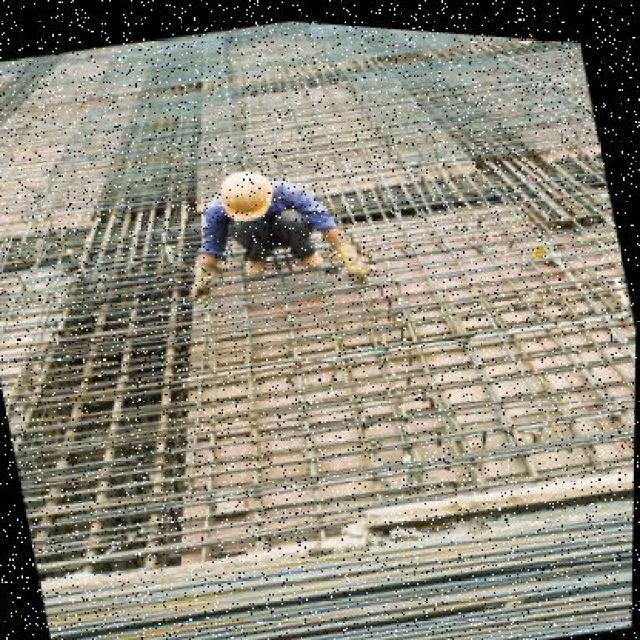helmet: (211, 161, 285, 225)
